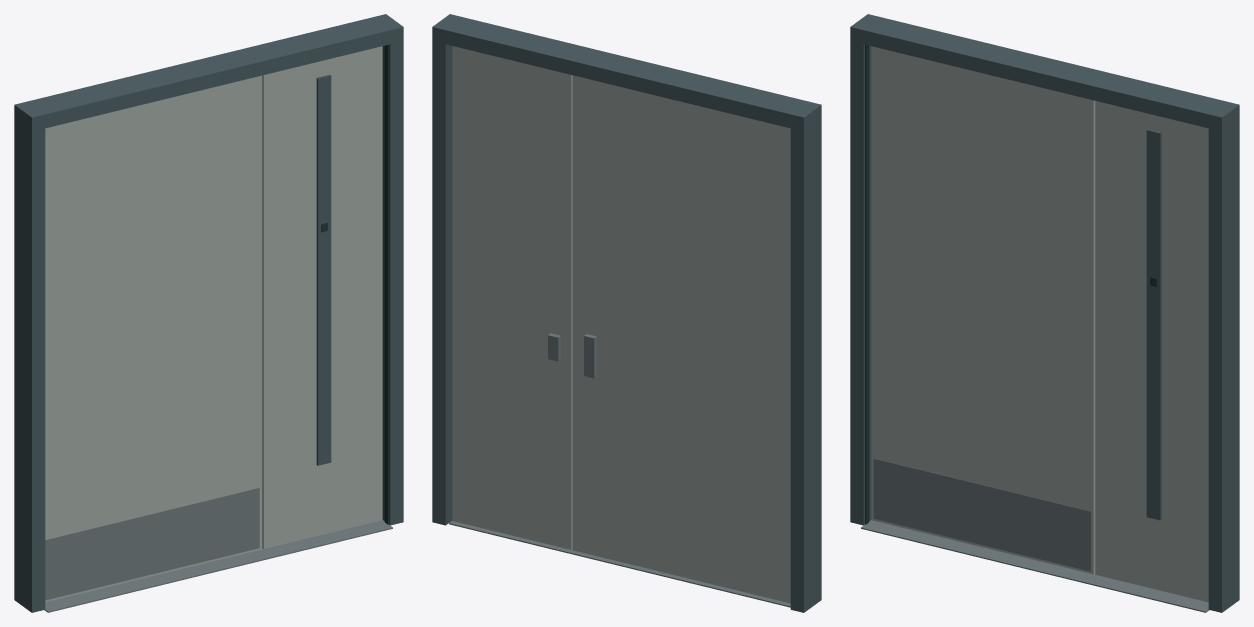
3 views of the same model, side by side, from view 1: azimuth 30°, elevation 25°; view 2: azimuth 150°, elevation 25°; view 3: azimuth 330°, elevation 25° (orthographic).
Visible parts, largest first — view 1: FD-B_Leaf_01, FD-B_Leaf_02, FD-B_FrameL, FD-B_Kick_01, FD-B_Head, FD-B_FrameR, FD-B_ServiceBand, FD-B_Threshold, FD-B_SealR; view 2: FD-B_Leaf_01, FD-B_Leaf_02, FD-B_FrameL, FD-B_Head, FD-B_FrameR, FD-B_Threshold, FD-B_Release_01; view 3: FD-B_Leaf_01, FD-B_Leaf_02, FD-B_FrameR, FD-B_Kick_01, FD-B_Head, FD-B_FrameL, FD-B_ServiceBand, FD-B_Threshold, FD-B_SealL.
Part boxes in pixels (<box>): FD-B_Leaf_01: <box>45,75,262,602</box>; FD-B_Leaf_02: <box>262,46,382,548</box>; FD-B_FrameL: <box>14,119,45,612</box>; FD-B_Kick_01: <box>45,488,259,600</box>; FD-B_Head: <box>14,14,403,131</box>; FD-B_FrameR: <box>382,41,403,525</box>; FD-B_ServiceBand: <box>316,74,331,465</box>; FD-B_Threshold: <box>44,520,392,612</box>; FD-B_SealR: <box>384,44,388,524</box>; FD-B_Leaf_01: <box>572,75,790,603</box>; FD-B_Leaf_02: <box>452,46,572,549</box>; FD-B_FrameL: <box>790,119,821,612</box>; FD-B_Head: <box>432,14,821,131</box>; FD-B_FrameR: <box>432,41,452,525</box>; FD-B_Threshold: <box>449,521,790,607</box>; FD-B_Release_01: <box>584,334,596,378</box>; FD-B_Leaf_01: <box>871,46,1095,574</box>; FD-B_Leaf_02: <box>1095,101,1208,602</box>; FD-B_FrameR: <box>1208,119,1239,612</box>; FD-B_Kick_01: <box>873,458,1090,571</box>; FD-B_Head: <box>850,14,1239,131</box>; FD-B_FrameL: <box>850,41,871,525</box>; FD-B_ServiceBand: <box>1146,129,1161,520</box>; FD-B_Threshold: <box>861,520,1209,612</box>; FD-B_SealL: <box>865,44,869,524</box>.
Bounding box in the file's own units: 1.94 × 2.48 × 0.185.
